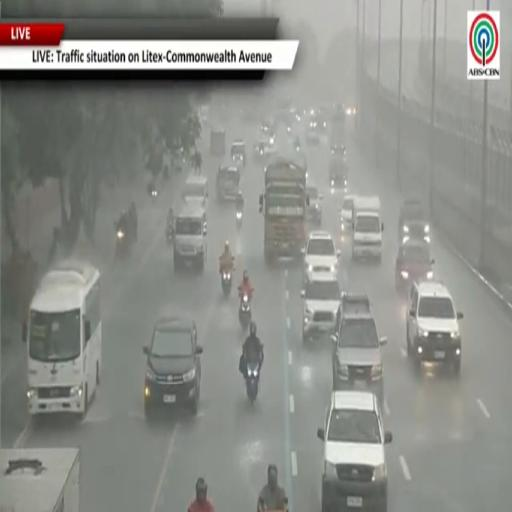bus: (23, 260, 101, 418)
car: (318, 391, 392, 511), (143, 316, 202, 419), (332, 294, 386, 403), (406, 281, 463, 376), (301, 274, 341, 344), (174, 202, 207, 273), (395, 240, 434, 291), (303, 231, 340, 281), (399, 200, 431, 243), (182, 174, 208, 210), (216, 164, 240, 200), (306, 181, 323, 226), (340, 194, 355, 242), (329, 155, 347, 191), (254, 137, 276, 159), (231, 140, 246, 166), (306, 122, 320, 145), (261, 120, 276, 139), (331, 141, 345, 156)
motorcycle: (246, 363, 259, 403), (239, 294, 251, 330), (115, 227, 128, 260), (258, 498, 288, 511), (221, 270, 232, 296), (166, 221, 174, 245), (236, 210, 242, 229), (151, 188, 157, 201)
truck: (259, 156, 309, 262), (0, 448, 79, 511), (352, 197, 383, 262), (330, 106, 345, 146), (210, 128, 226, 157)
